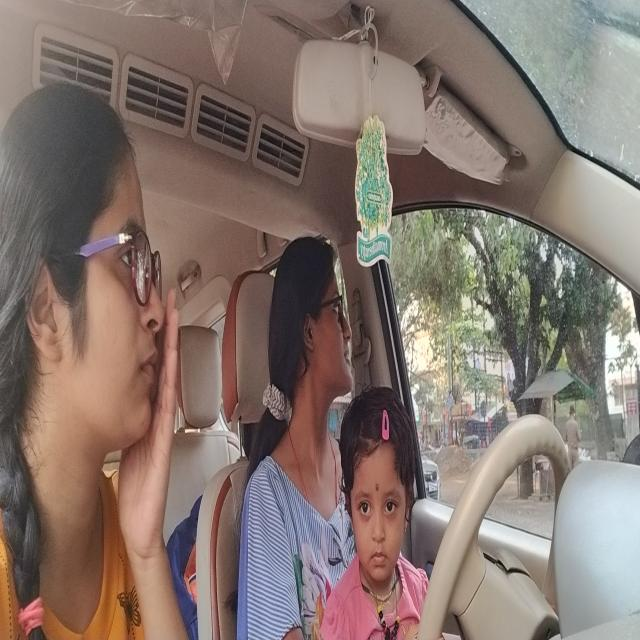child: (336, 381, 419, 593)
person: (0, 65, 177, 443), (267, 228, 360, 408)
